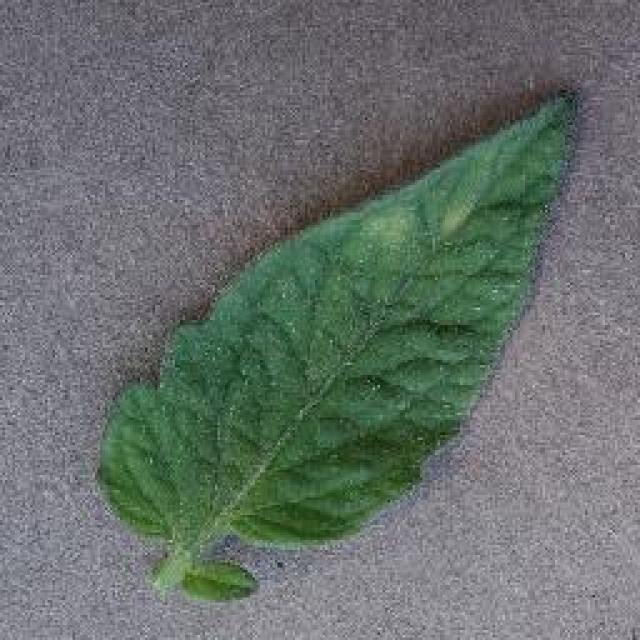Tomato mold leaf: (97, 96, 575, 604)
